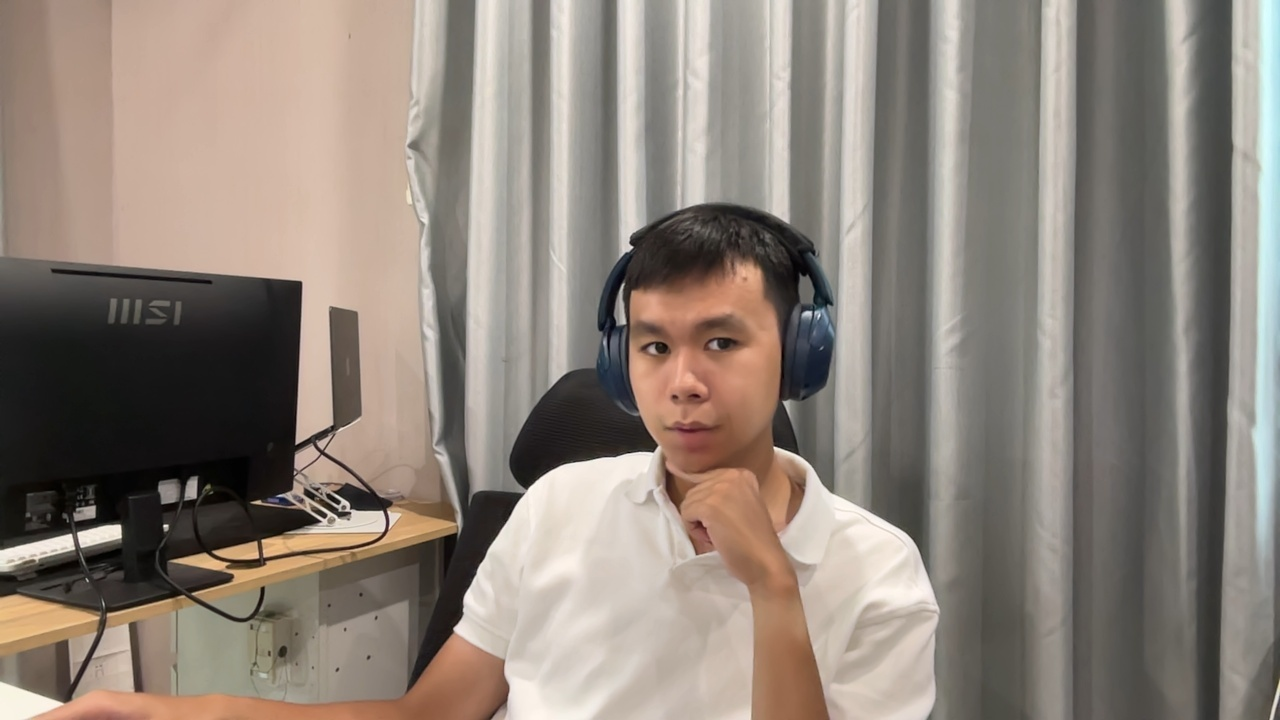over_ear: (594, 204, 837, 420), (594, 202, 838, 412), (704, 204, 839, 407)
